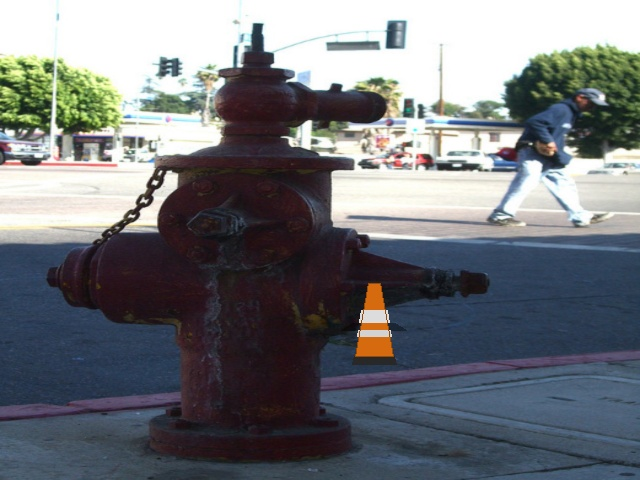traffic-cone: (352, 283, 396, 364)
